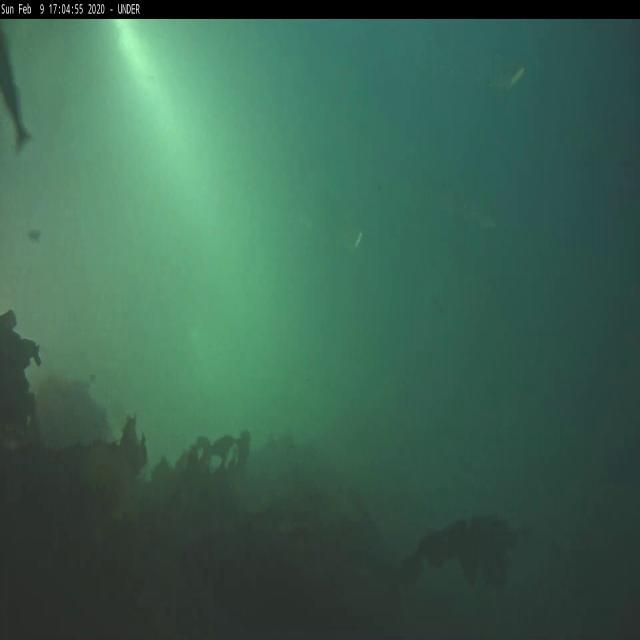fish: (506, 64, 524, 94), (354, 230, 364, 252)
